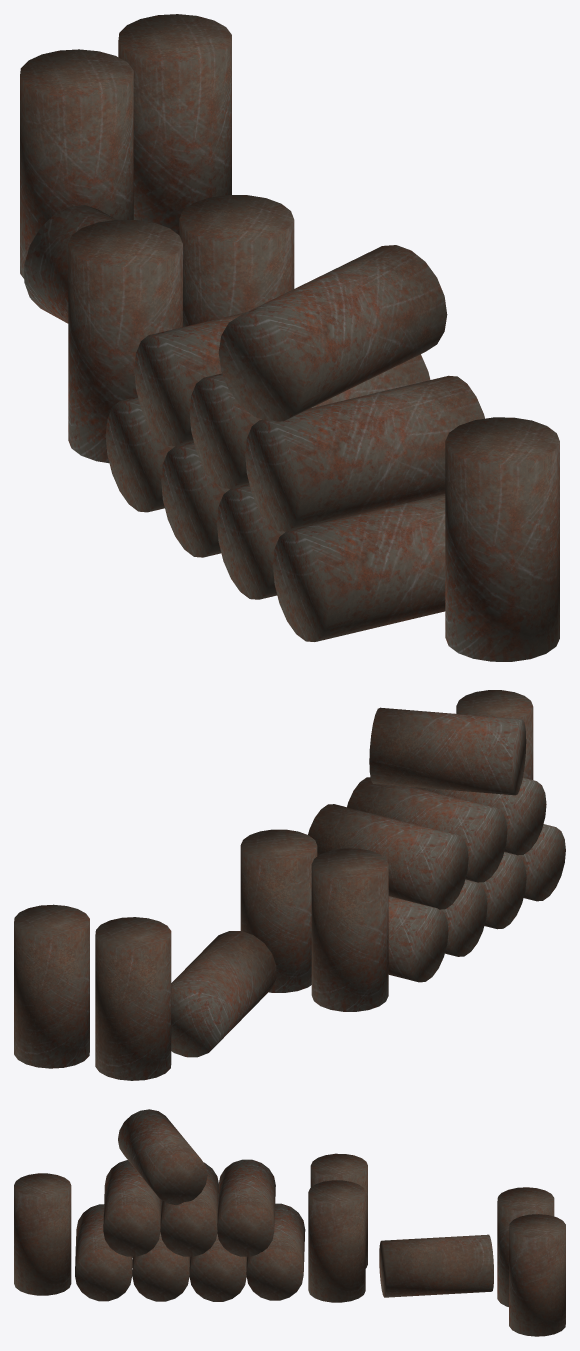
Rendered from Bidones2.obj.
3 renders of one model, top to bottom at view 1: azimuth 30°, elevation 25°; view 2: azimuth 150°, elevation 25°; view 3: azimuth 270°, elevation 25°, orthographic. The views are drawn at different scales.
Visible parts, largest first — view 1: Bidones2; view 2: Bidones2; view 3: Bidones2.
Boxes of the visible parts, left/top/right/bottom form: Bidones2: left=20, top=14, right=559, bottom=661; Bidones2: left=14, top=690, right=565, bottom=1080; Bidones2: left=14, top=1109, right=565, bottom=1336.
Bounding box in the file's own units: 14.42 × 10.79 × 37.08.
1 material, 1 textured.
